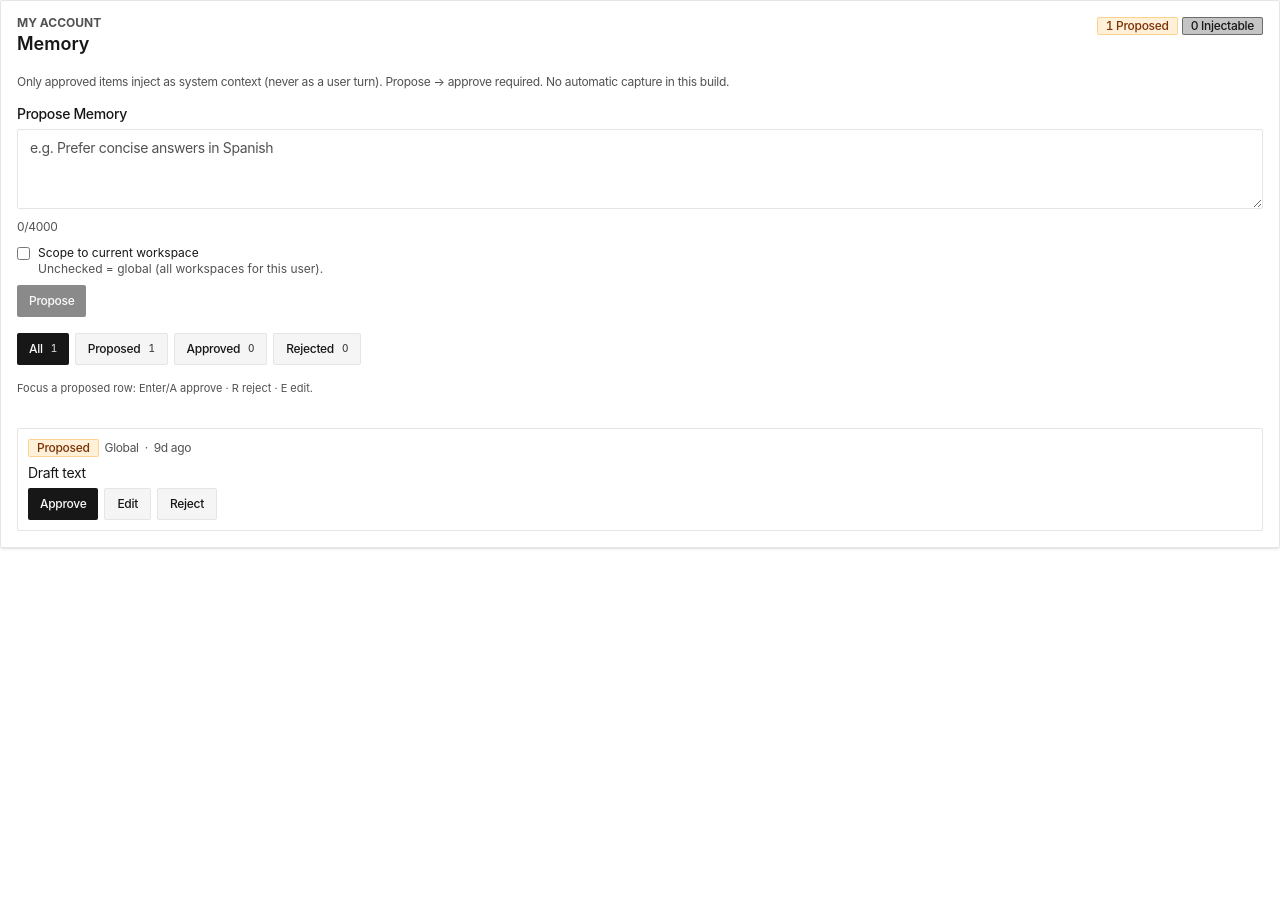
Test: UserMemoryPanel › saves an edit with Ctrl+Enter and shows a char counter
This screenshot has width=1280, height=900.
Expected: the text "Draft text" is shown, [28,464,86,481]
Step 1. Click the button "Edit" → (128,504), box [104,488,151,520]
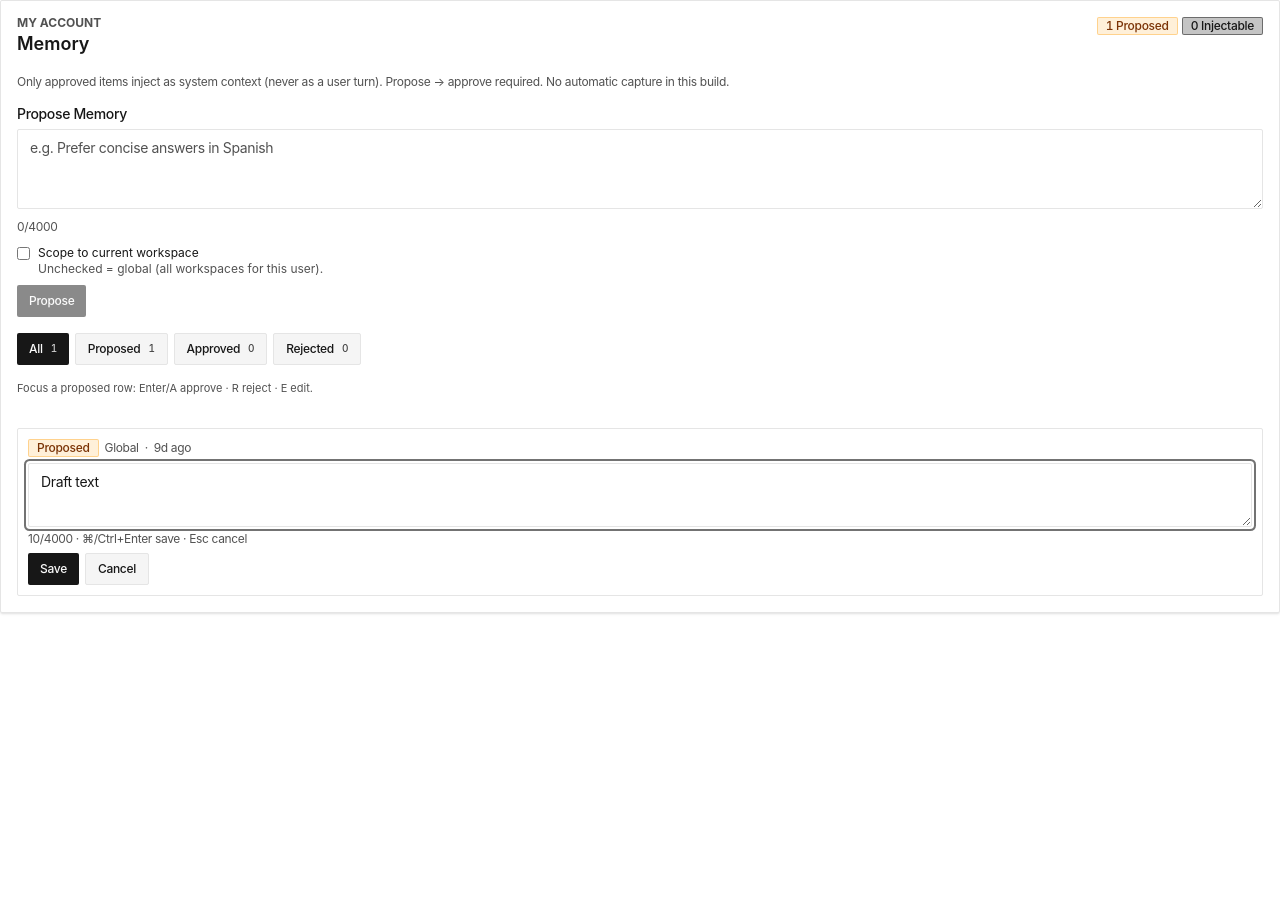
Now the text "10/4000 · ⌘/Ctrl+Enter save · Esc cancel" is shown, box [28,531,247,546]
Step 2. Replace the text in the text box named "Edit Memory Content" with "Edited via shortcut" → (640,495), box [28,463,1252,527]
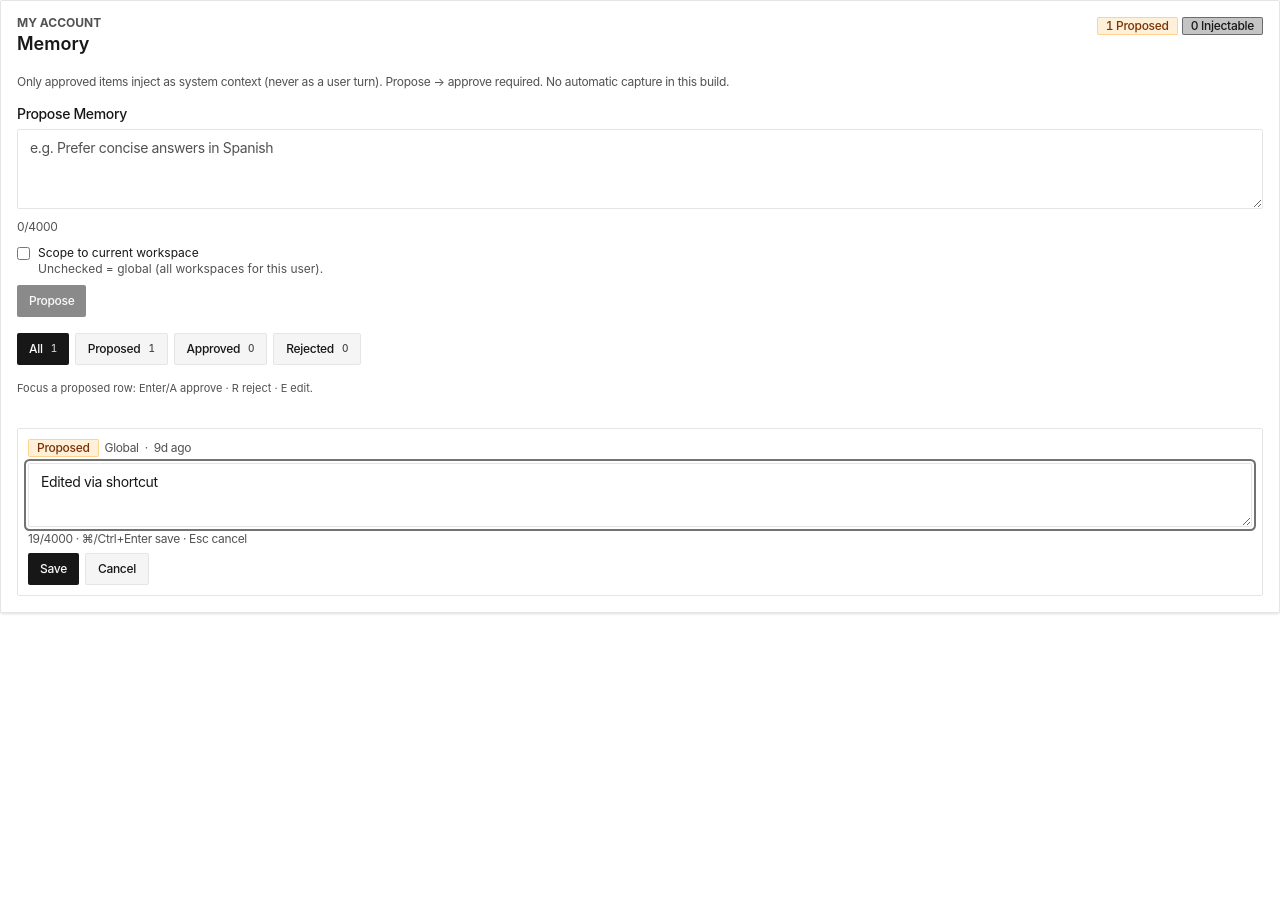
Step 3. Type keys "{Control>}{Enter}{/Control}"
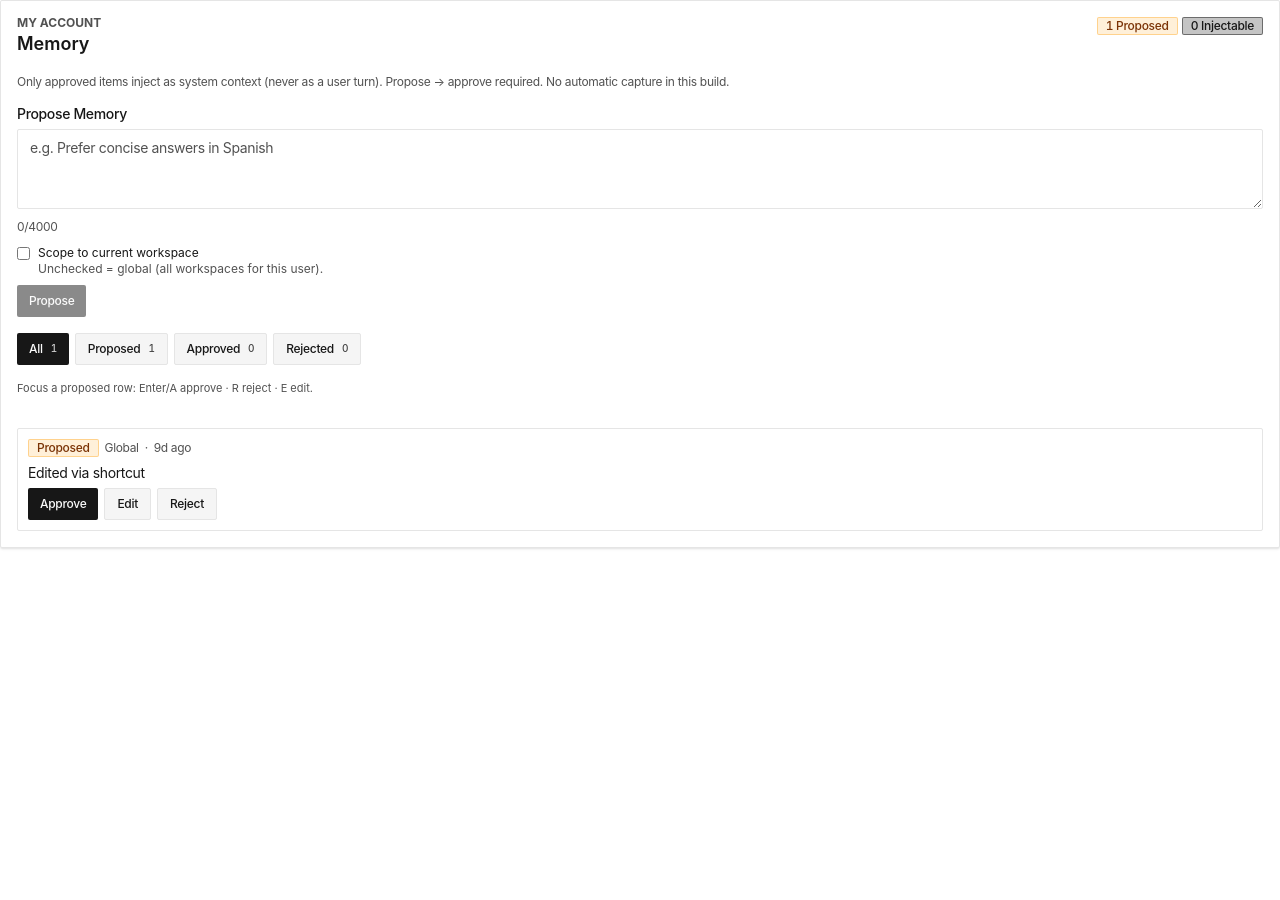
Now the text "Edited via shortcut" is shown, box [28,464,145,481]
